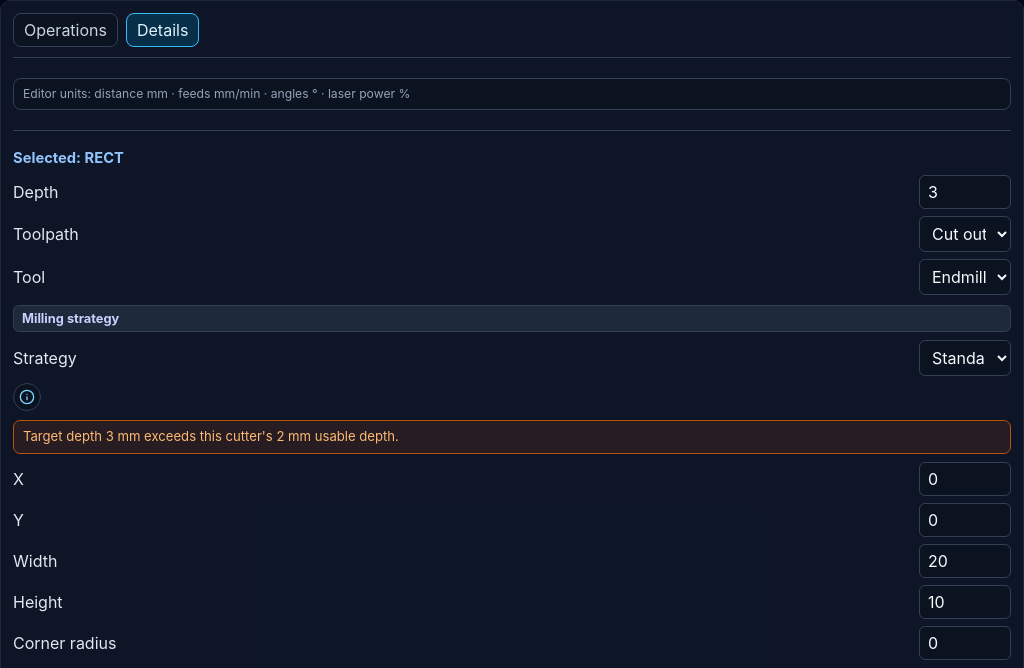
Test: OperationsPanel › shows milling geometry details and warns when target depth exceeds the cutter profile
Click the heading named "About milling tool geometry" at (27, 397), box [13,383,41,411]
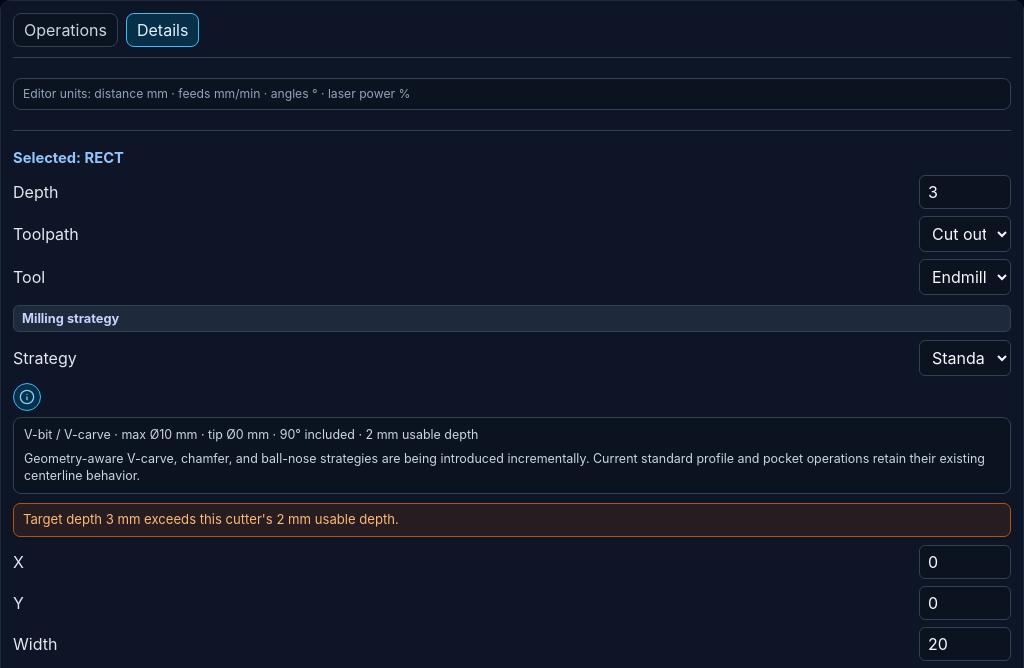
Check: the message reads "Target depth 3 mm exceeds this cutter's 2 mm usable depth.", box [13,503,1011,536]
Check: the text "V-bit / V-carve · max Ø10 mm" is shown, box [24,427,478,442]
